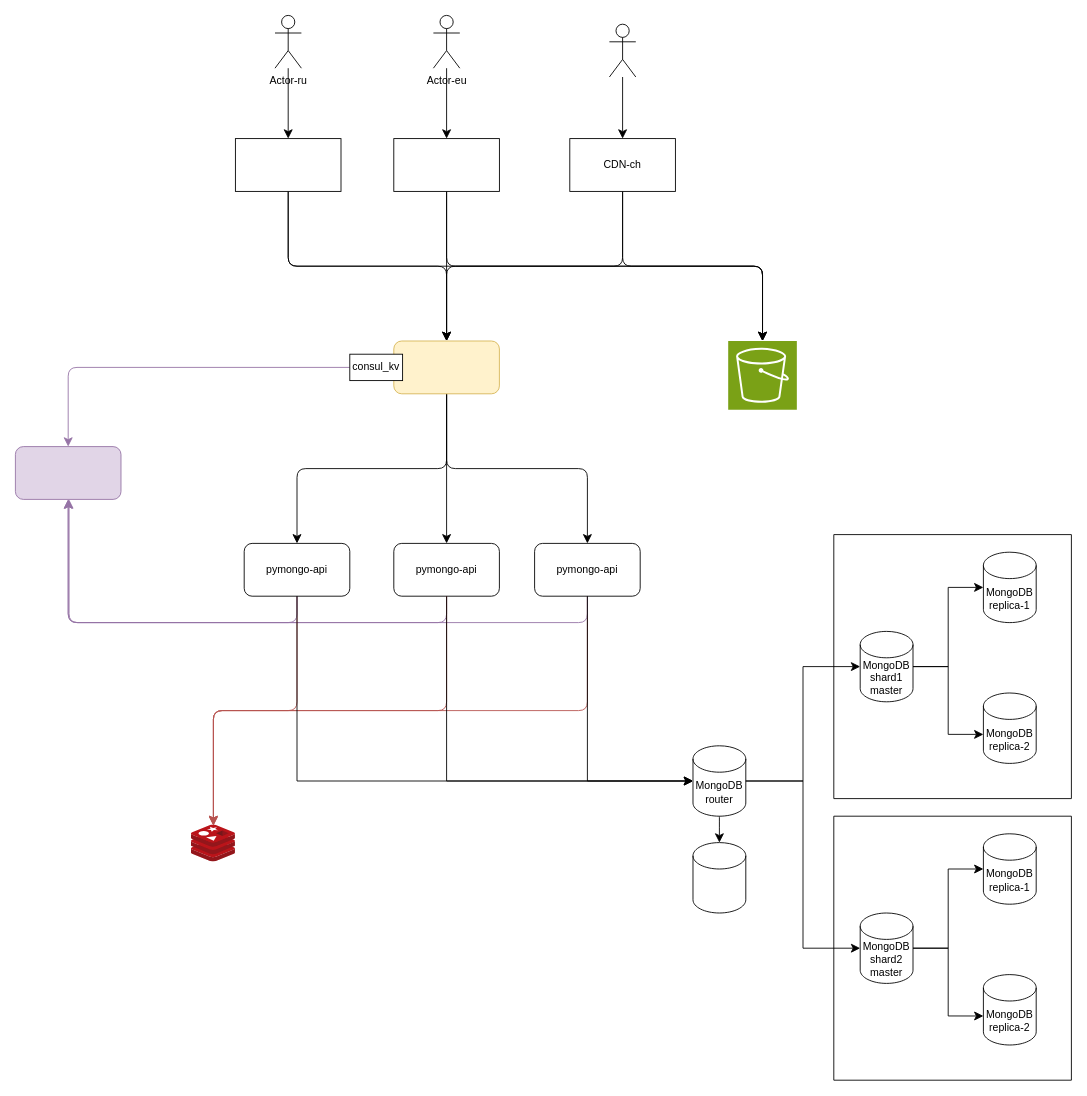
This 1087x1096 diagram has some shape labels left out. Here are the shapes that lost their labels. From the top down, the centre of each, then its label:
the point at 622,50: Actor-ch
the point at 288,164: CDN-ru
the point at 446,164: CDN-eu
the point at 446,367: API Gateway
the point at 68,472: Consul
the point at 213,843: Redis1
the point at 719,877: MongoDB configSrv
